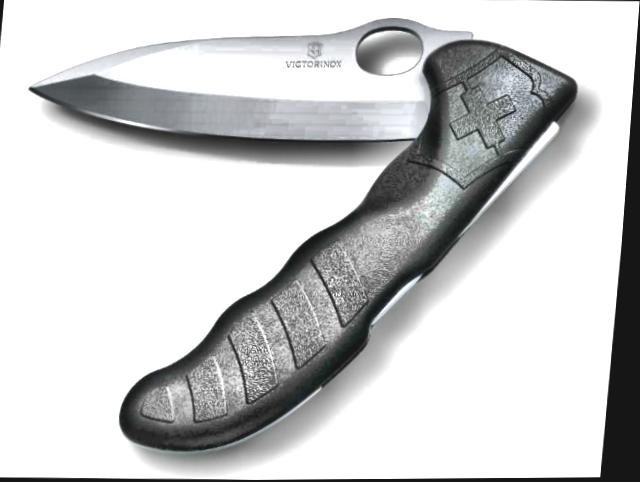knife: (9, 12, 447, 152)
